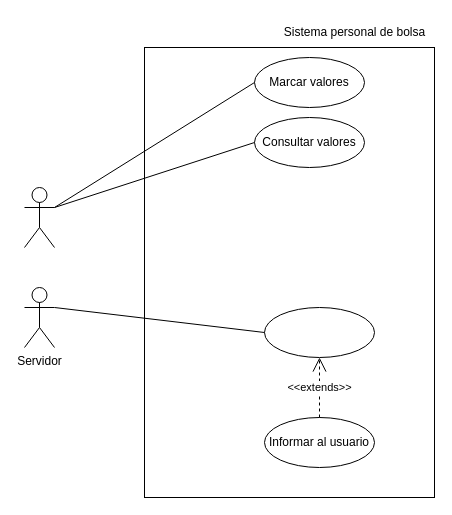
This 452x515 diagram has some shape labels left out. The centre of each missing label's shape, as x and y in pixels:
Actualizar valores: pixel 319 332
Usuario: pixel 39 217
